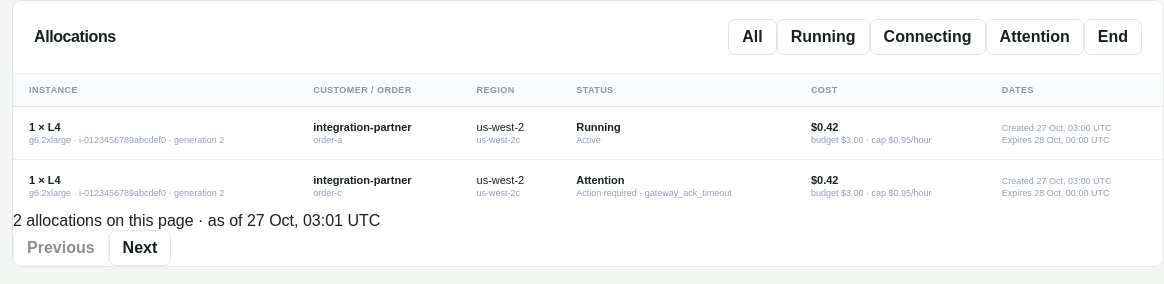
Test case: console allocations › lists allocations with lifecycle, raw state, cost and pages by cursor
Expected: the text "order-a" is shown, [313, 135, 342, 145]
Expected: the text "Running" is shown, [576, 121, 621, 133]
Step 1. Click the button "Next" → (140, 248), box [109, 230, 171, 266]
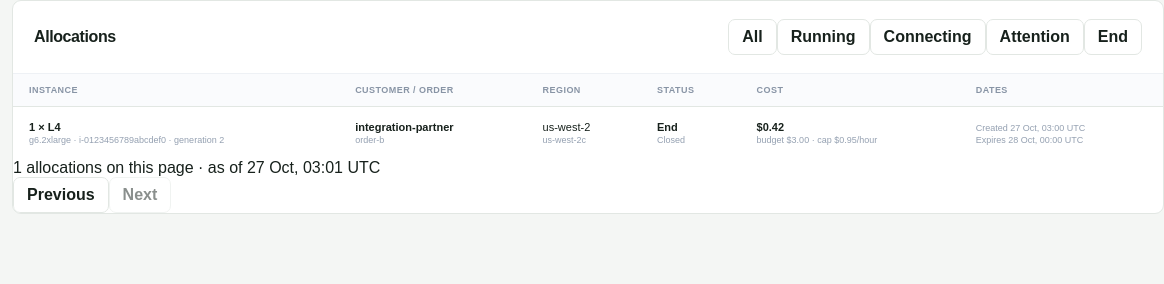
Now the text "order-b" is shown, box [355, 135, 384, 145]
Now the button "Next" is disabled, box [109, 177, 171, 213]
